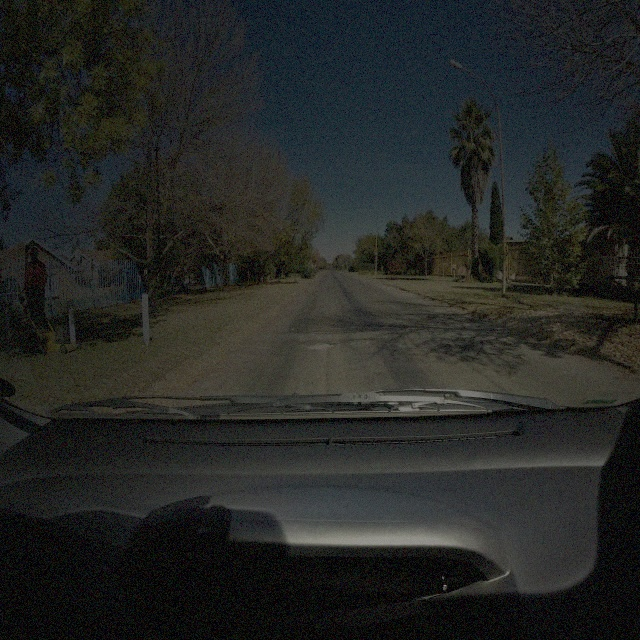pothole: (305, 338, 337, 352)
